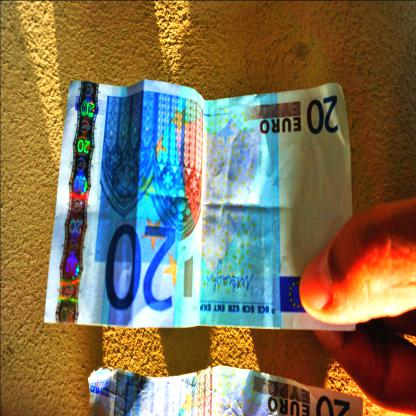euro_banknote: (47, 81, 359, 329)
